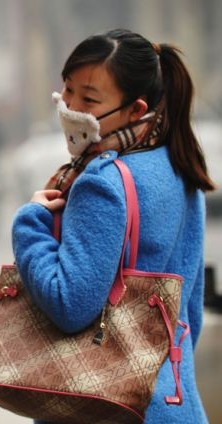with_mask: (53, 59, 148, 160)
